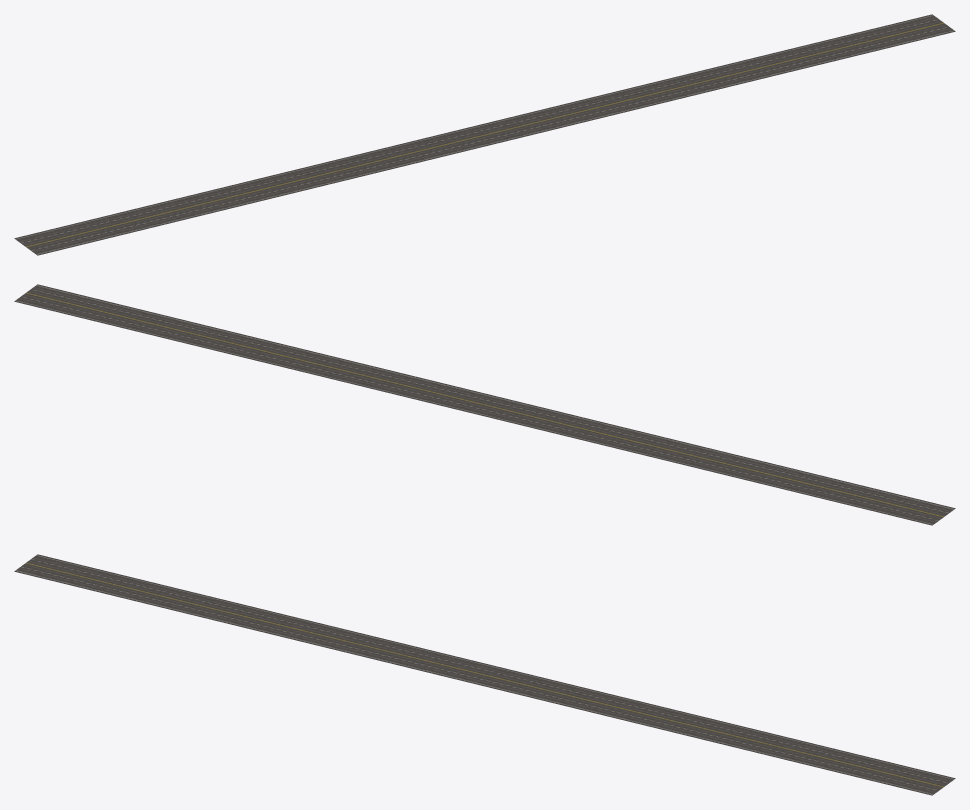
The model's file is run way.fbx.
The picture shows the model from 3 angles, top to bottom: view 1: azimuth 30°, elevation 25°; view 2: azimuth 150°, elevation 25°; view 3: azimuth 330°, elevation 25°; orthographic projection.
Visible parts, largest first — view 1: Rail.009; view 2: Rail.009; view 3: Rail.009.
Part boxes in pixels (x1,y1,x2,y2): Rail.009: [14, 14, 955, 255]; Rail.009: [14, 284, 955, 525]; Rail.009: [14, 554, 955, 795].
Bounding box in the file's own units: 30240 × 0.000498 × 1349.
Materials: 1 (1 with a texture image).
